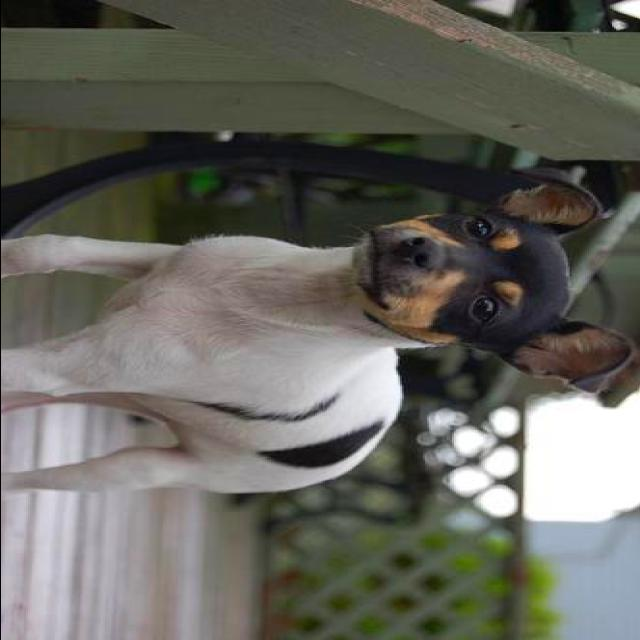toy_terrier: (2, 166, 634, 498)
